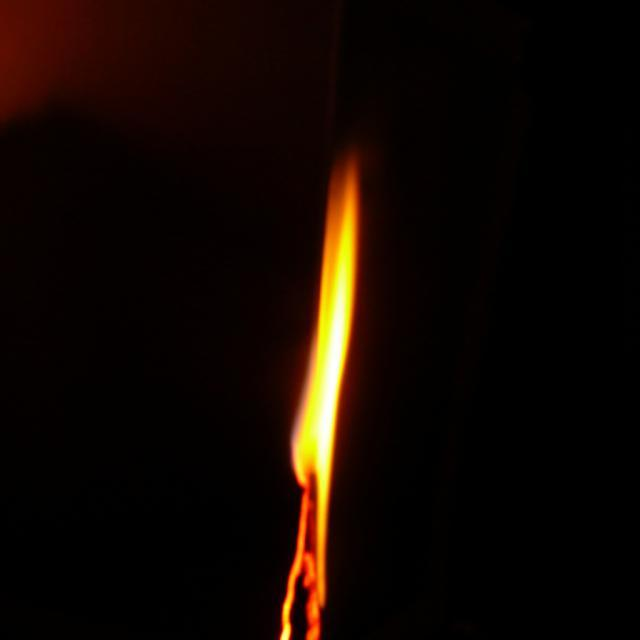Fire: (312, 228, 363, 470)
